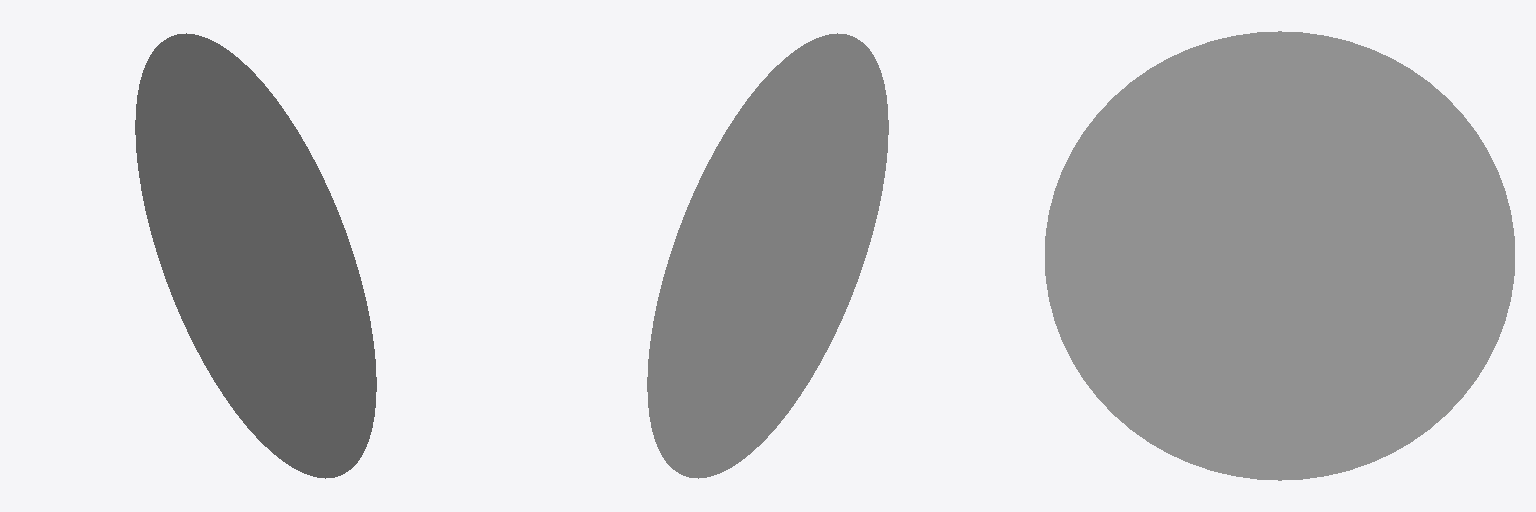
The model's file is drumsetV4_BigDrumBack_Keyframe.obj.
3 renders of one model, left to right at view 1: azimuth 30°, elevation 25°; view 2: azimuth 150°, elevation 25°; view 3: azimuth 270°, elevation 25°, orthographic.
Visible parts, largest first — view 1: drumsetV4_BigDrumBack_Cylinder.011; view 2: drumsetV4_BigDrumBack_Cylinder.011; view 3: drumsetV4_BigDrumBack_Cylinder.011.
Boxes of the visible parts, x1,y1,x2,y2 form: drumsetV4_BigDrumBack_Cylinder.011: [135, 33, 376, 478]; drumsetV4_BigDrumBack_Cylinder.011: [647, 33, 888, 478]; drumsetV4_BigDrumBack_Cylinder.011: [1045, 31, 1514, 480].
Size of the model in its own units: 0.2451 by 1.86 by 1.88.